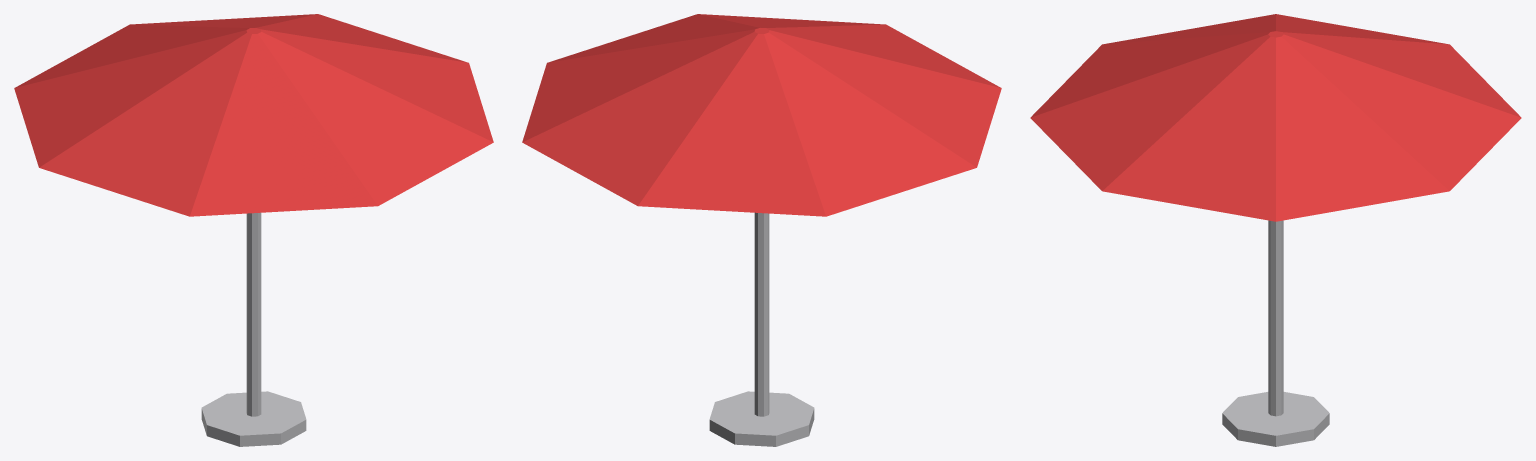
Rendered from sombrilla.glb.
The picture shows the model from 3 angles, left to right: view 1: azimuth 30°, elevation 25°; view 2: azimuth 150°, elevation 25°; view 3: azimuth 270°, elevation 25°; orthographic projection.
Parts seen in each view (by area): view 1: sombrilla; view 2: sombrilla; view 3: sombrilla.
Part boxes in pixels (x1,y1,x2,y2): sombrilla: (14, 14, 493, 446); sombrilla: (522, 14, 1001, 446); sombrilla: (1030, 14, 1521, 446).
Bounding box in the file's own units: 3.2 × 2.8 × 3.2.
